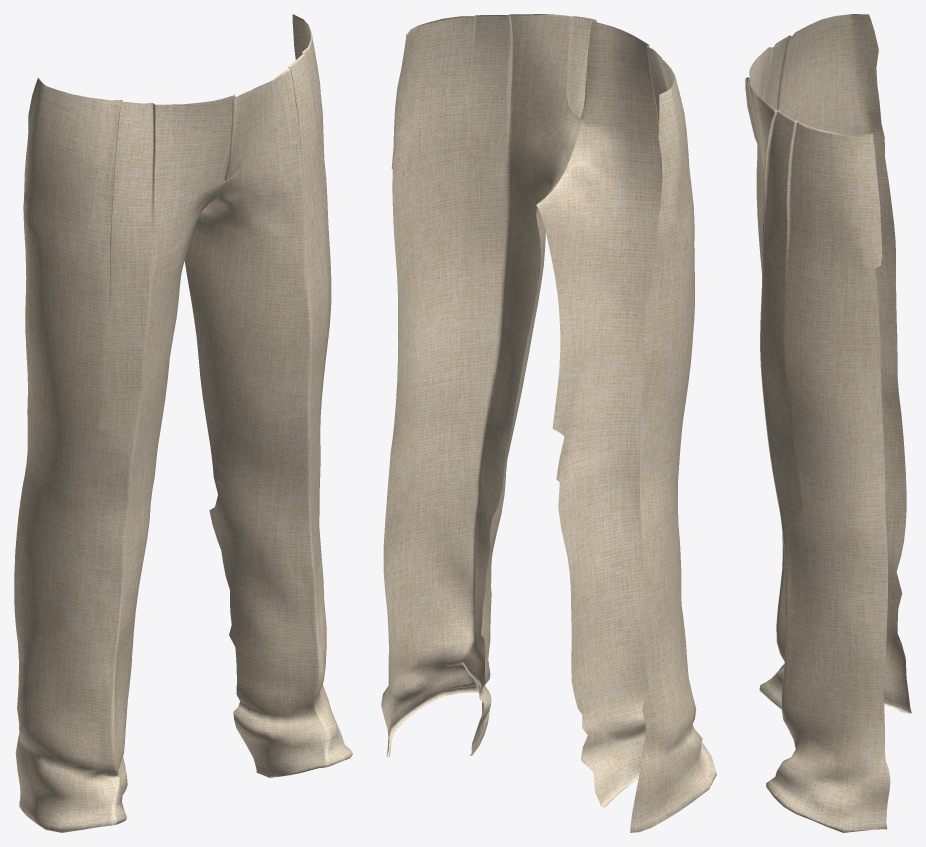
Rendered from standard_double_pleat.glb.
The picture shows the model from 3 angles, left to right: view 1: azimuth 30°, elevation 25°; view 2: azimuth 150°, elevation 25°; view 3: azimuth 270°, elevation 25°; orthographic projection. The views are drawn at different scales.
Visible parts, largest first — view 1: standard_double_pleat1; view 2: standard_double_pleat1; view 3: standard_double_pleat1.
Part boxes in pixels (bbox=[...]): standard_double_pleat1: bbox=[14, 14, 352, 832]; standard_double_pleat1: bbox=[381, 14, 716, 832]; standard_double_pleat1: bbox=[745, 14, 911, 832].
Bounding box in the file's own units: 0.0545 × 0.1247 × 0.027.
Materials: 1 (1 with a texture image).
